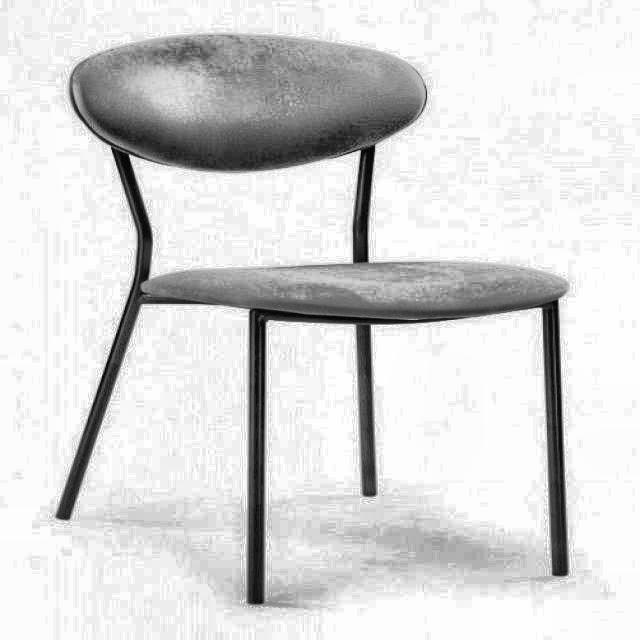cadeira: (52, 29, 578, 606), (70, 35, 575, 322)
